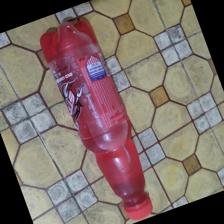Sting: (40, 14, 157, 221)
